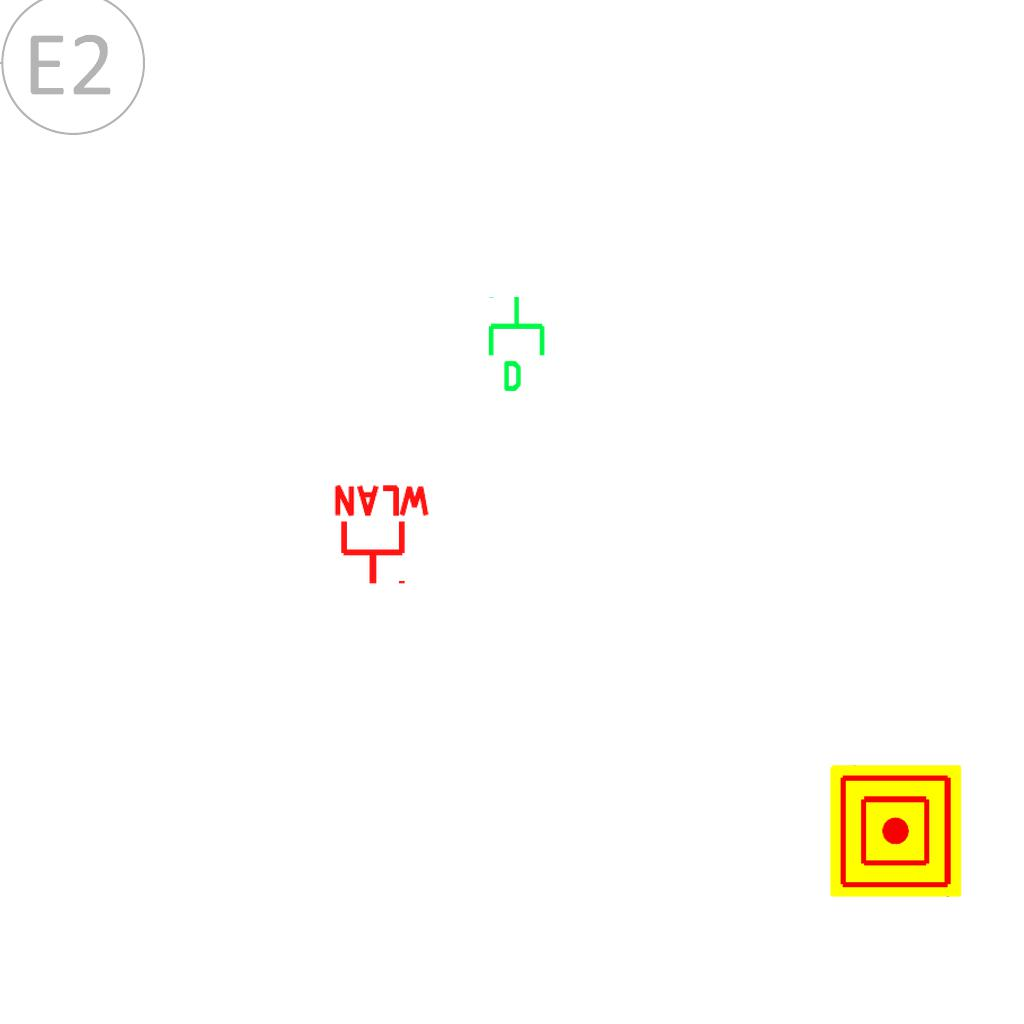Datenanschluss_einfach: (484, 294, 553, 394)
NAM-Nichtautomatischer_Melder: (830, 765, 962, 897)
WLAN: (330, 483, 434, 588)
